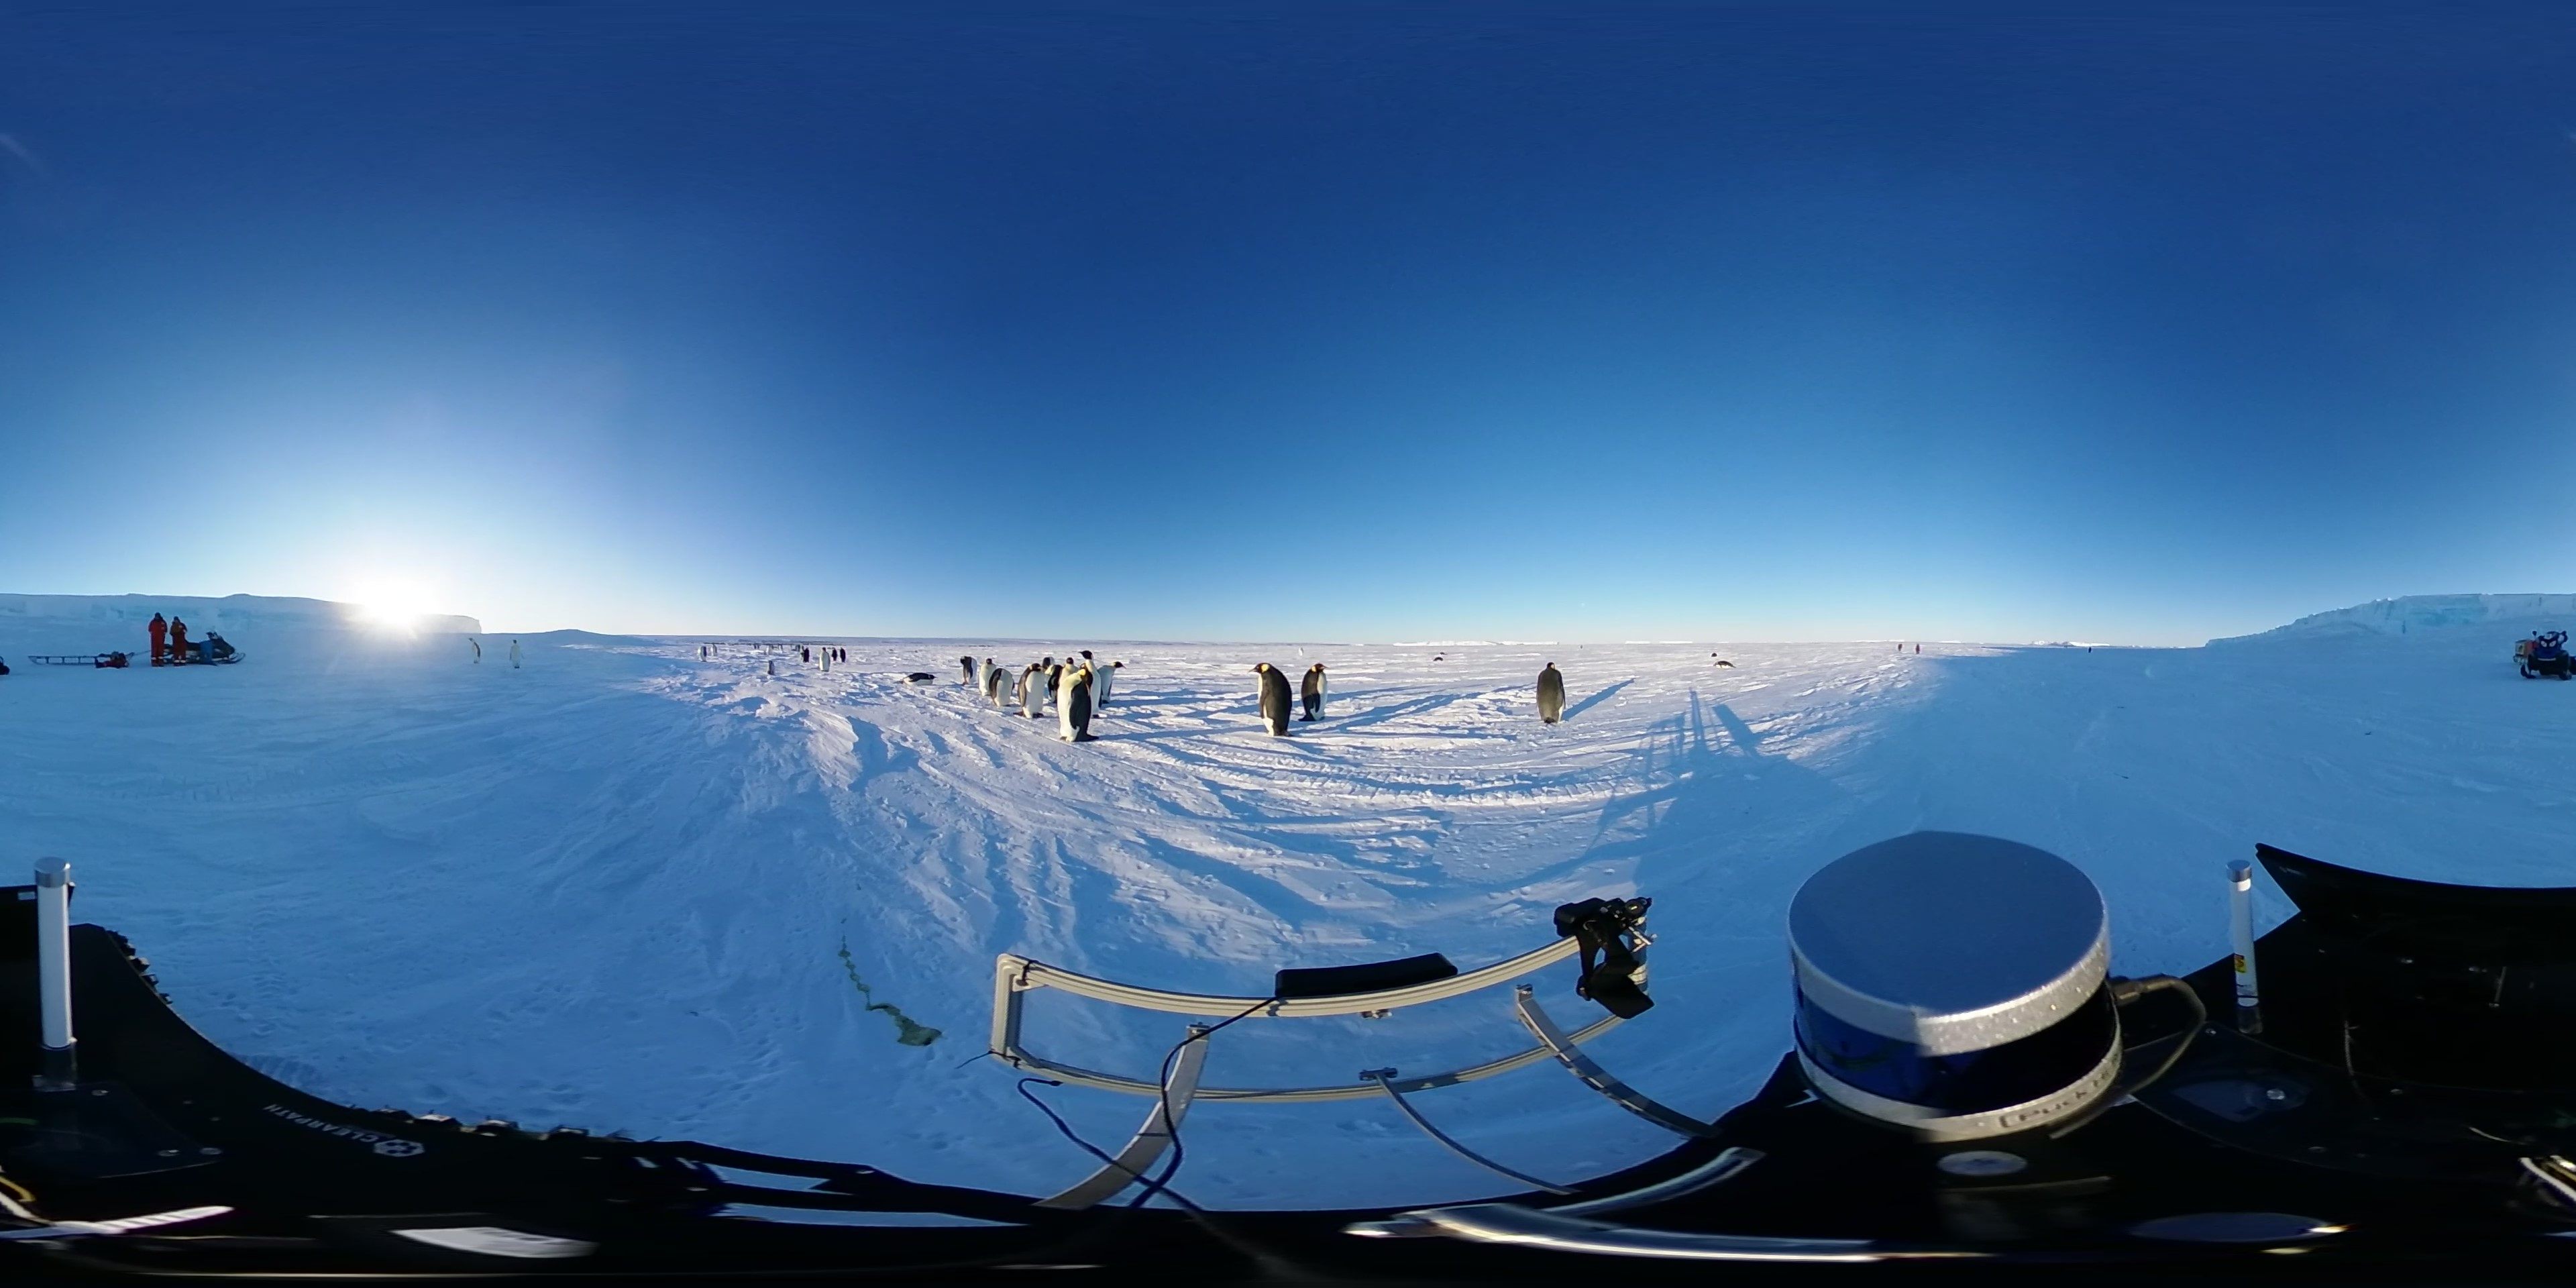adult_standing_penguin: (1247, 660, 1296, 741), (1055, 669, 1102, 744), (1536, 657, 1569, 729), (1298, 660, 1331, 726), (1019, 664, 1046, 721), (987, 665, 1019, 710), (958, 654, 979, 692)
adult_toboggan_penguin: (900, 669, 936, 688)
researcher: (146, 611, 169, 669), (168, 614, 189, 670), (90, 649, 136, 670)
